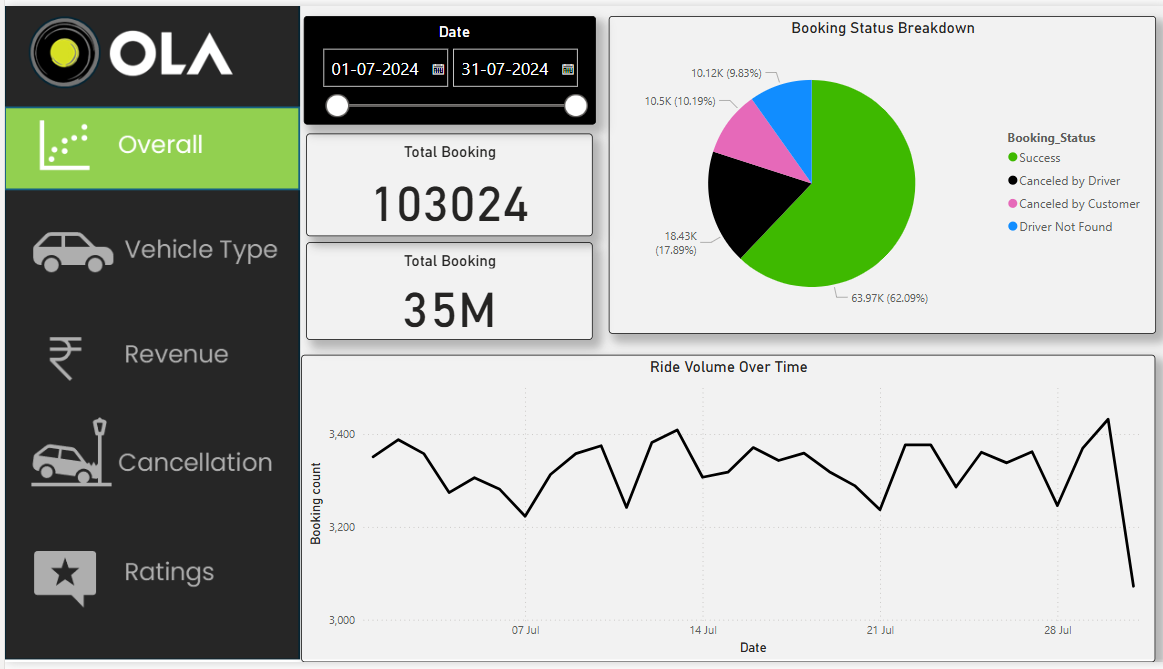

The dashboard page shown, as its layout file describes it:
{"tool":"powerbi","page":{"name":"Overall","canvas":[1280,720],"ordinal":0},"visuals":[{"type":"actionButton","box":[0,223.2,325.7,89.3],"z":0},{"type":"actionButton","box":[0,337.8,325.7,89.3],"z":1000},{"type":"actionButton","box":[0,460.9,325.7,89.3],"z":2000},{"type":"actionButton","box":[0,579.1,325.7,89.3],"z":3000},{"type":"lineChart","title":"Ride Volume Over Time","fields":{"Y":["CountNonNull(July.Booking_ID)"],"Category":["July.Date"]},"box":[325.7,382.4,937.4,337.8],"z":4000},{"type":"pieChart","title":"Booking Status Breakdown","fields":{"Category":["July.Booking_Status"],"Y":["CountNonNull(July.Booking_ID)"]},"box":[662.3,10.9,600.8,348.7],"z":5000},{"type":"slicer","title":"Date","fields":{"Values":["July.Date"]},"box":[328,11,321.1,119.4],"z":6000},{"type":"card","title":"Total Booking","fields":{"Values":["CountNonNull(July.Booking_ID)"]},"box":[330.7,140,314.2,112.5],"z":7000},{"type":"card","title":"Total Booking","fields":{"Values":["Sum(July.Booking_Value)"]},"box":[330.7,259.3,314.2,107],"z":8000}]}

Visuals, with their boxes in screenshot pixels (x1, y1, x2, y2), scaled from the page's 1280x720 canvas onto the 1163x669 screenshot:
actionButton: [left=0, top=207, right=296, bottom=290]
actionButton: [left=0, top=314, right=296, bottom=397]
actionButton: [left=0, top=428, right=296, bottom=511]
actionButton: [left=0, top=538, right=296, bottom=621]
"Ride Volume Over Time" lineChart: [left=296, top=355, right=1148, bottom=668]
"Booking Status Breakdown" pieChart: [left=602, top=10, right=1148, bottom=334]
"Date" slicer: [left=298, top=10, right=590, bottom=121]
"Total Booking" card: [left=300, top=130, right=586, bottom=235]
"Total Booking" card: [left=300, top=241, right=586, bottom=340]
